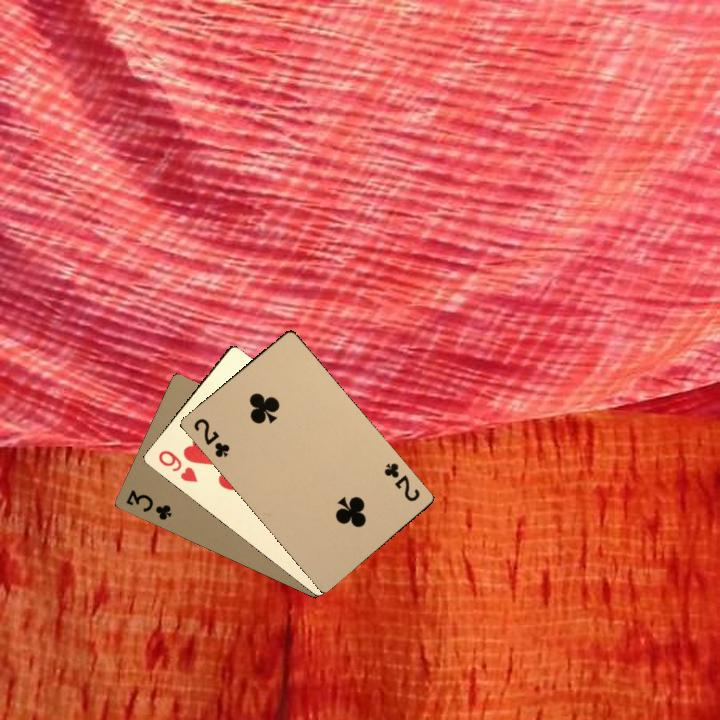2c: (189, 414, 232, 460), (380, 459, 423, 504)
3c: (122, 486, 174, 523)
9h: (154, 446, 200, 485)
